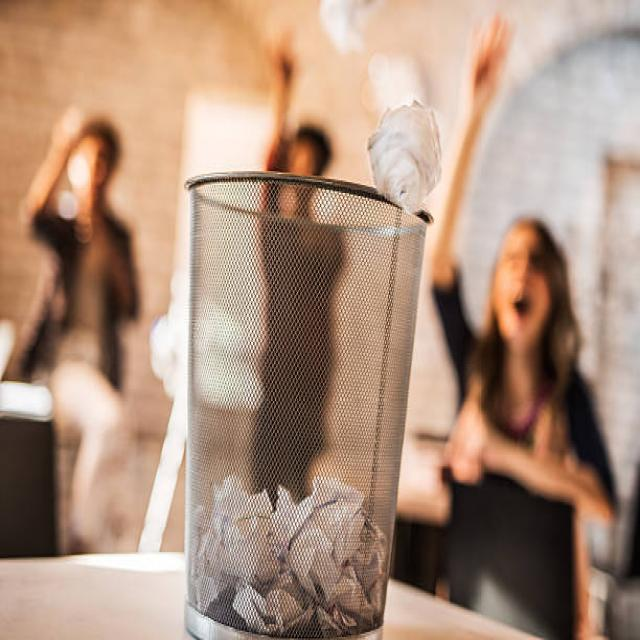paper: (189, 480, 369, 623), (369, 92, 447, 215)
